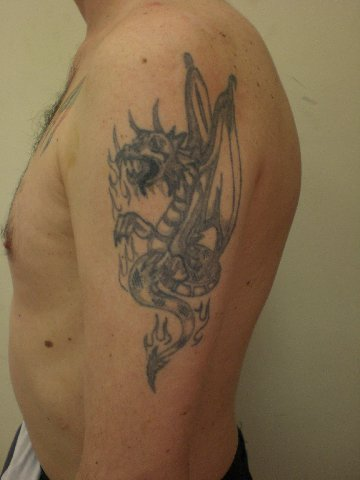tatu6_drakon: (86, 25, 278, 402)
